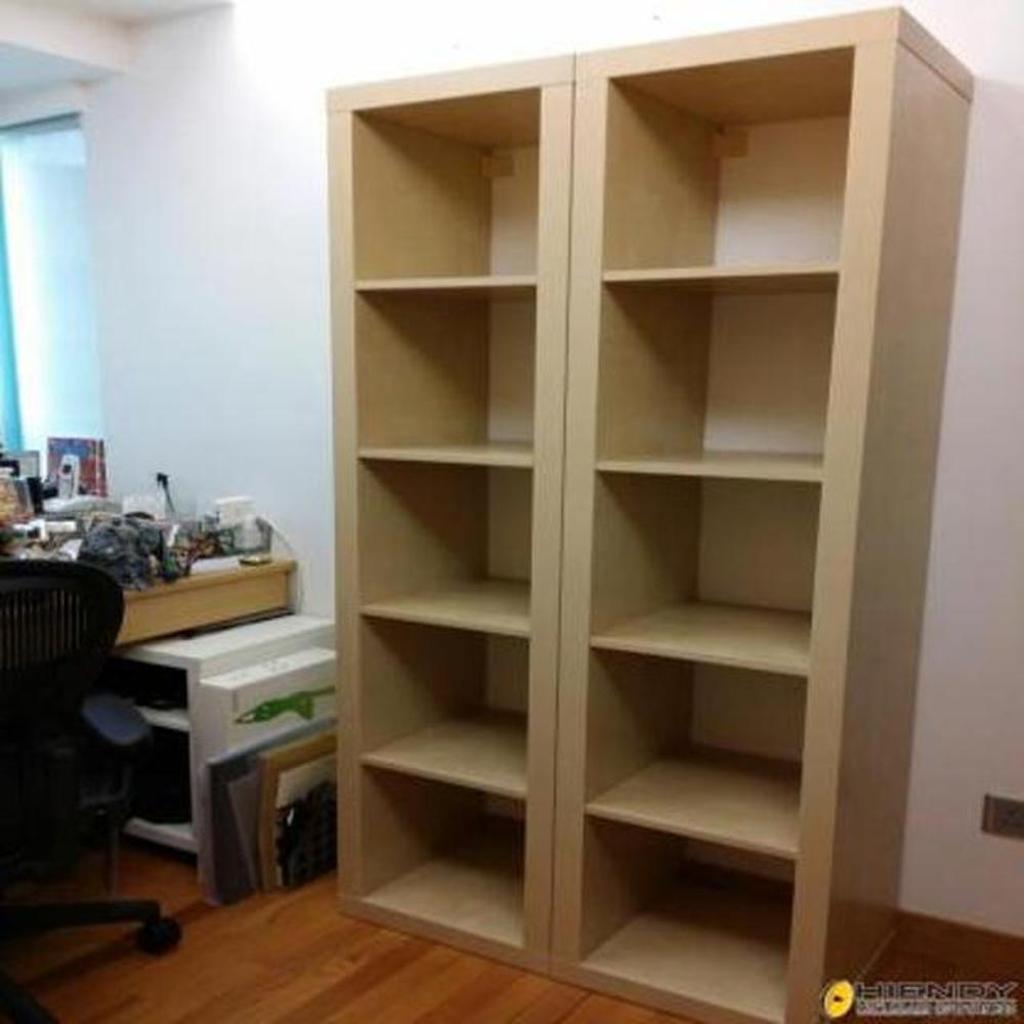lamp: (540, 6, 984, 1023), (322, 54, 577, 985)
